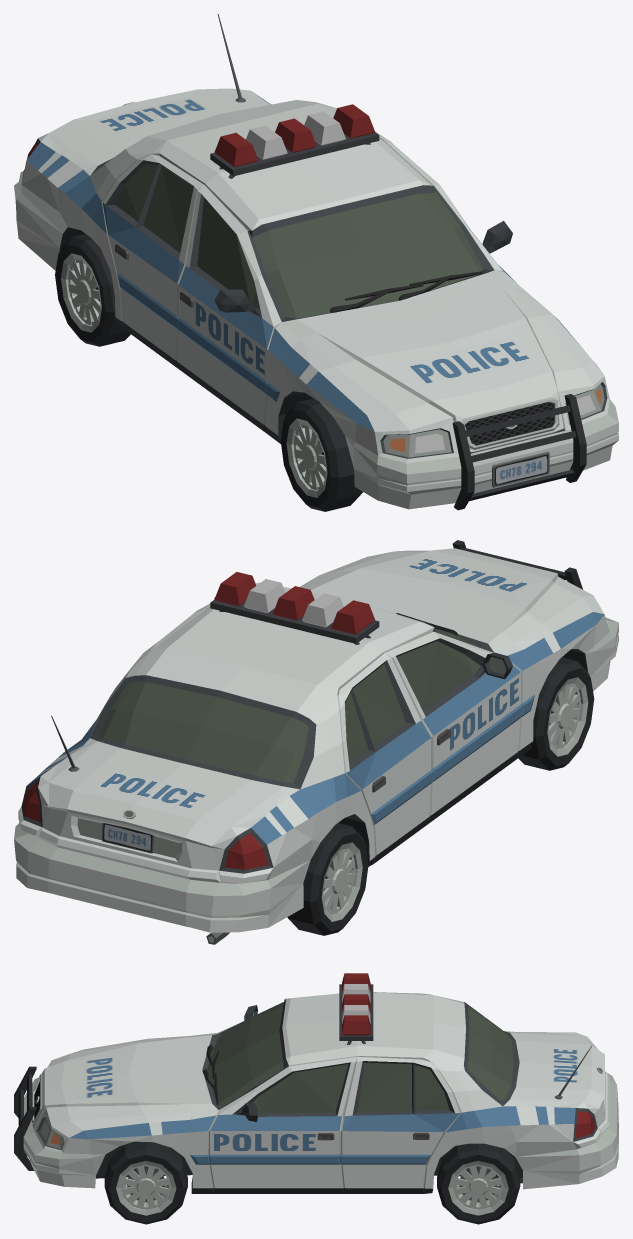
Rendered from SM_Veh_Car_Police_01.glb.
3 views of the same model, one above another, from view 1: azimuth 30°, elevation 25°; view 2: azimuth 150°, elevation 25°; view 3: azimuth 270°, elevation 25° (orthographic). The views are drawn at different scales.
Parts seen in each view (by area): view 1: SM_Veh_Car_Police_01, SM_Veh_Car_Police_Glass, SM_Veh_Car_Police_Wheel_fr, SM_Veh_Car_Police_Wheel_rr, SM_Veh_Car_Police_Plates; view 2: SM_Veh_Car_Police_01, SM_Veh_Car_Police_Glass, SM_Veh_Car_Police_Wheel_rr, SM_Veh_Car_Police_Wheel_fr, SM_Veh_Car_Police_Plates; view 3: SM_Veh_Car_Police_01, SM_Veh_Car_Police_Glass, SM_Veh_Car_Police_Wheel_fl, SM_Veh_Car_Police_Wheel_rl.
Part boxes in pixels (<box>): SM_Veh_Car_Police_01: <box>14,14,618,510</box>; SM_Veh_Car_Police_Glass: <box>115,163,482,318</box>; SM_Veh_Car_Police_Wheel_fr: <box>280,398,362,511</box>; SM_Veh_Car_Police_Wheel_rr: <box>55,234,130,346</box>; SM_Veh_Car_Police_Plates: <box>492,451,549,487</box>; SM_Veh_Car_Police_01: <box>14,540,618,944</box>; SM_Veh_Car_Police_Glass: <box>99,628,480,782</box>; SM_Veh_Car_Police_Wheel_rr: <box>287,823,368,935</box>; SM_Veh_Car_Police_Wheel_fr: <box>518,657,594,770</box>; SM_Veh_Car_Police_Plates: <box>101,823,154,853</box>; SM_Veh_Car_Police_01: <box>14,973,618,1193</box>; SM_Veh_Car_Police_Glass: <box>207,1003,513,1113</box>; SM_Veh_Car_Police_Wheel_fl: <box>104,1141,187,1224</box>; SM_Veh_Car_Police_Wheel_rl: <box>437,1143,520,1224</box>.
Bounding box in the file's own units: 0.2172 × 0.1847 × 0.5247.
1 material, 1 textured.
